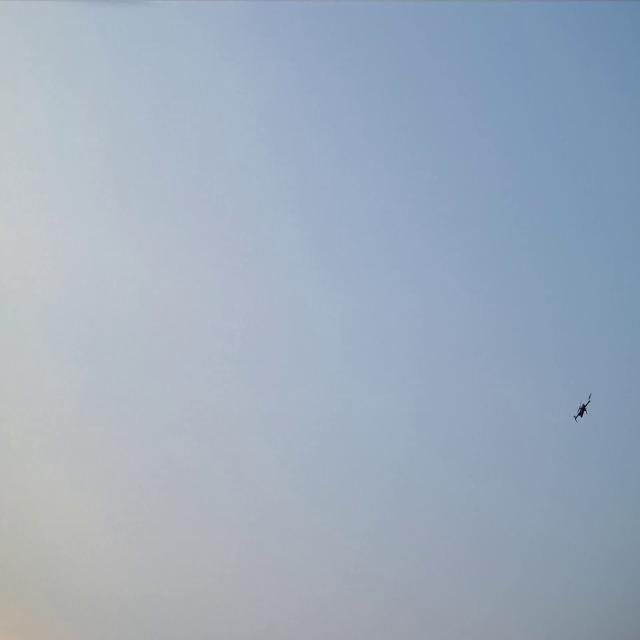UAV: (574, 396, 590, 420)
